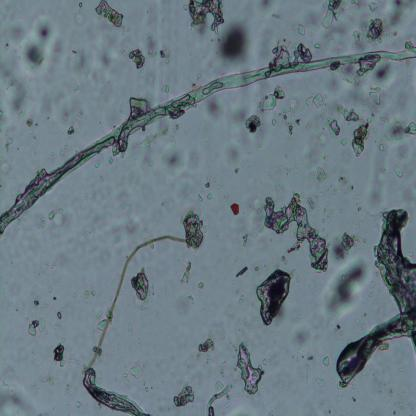Air bubble: (56, 312, 63, 320)
Background material: (261, 194, 330, 276), (324, 254, 374, 316), (252, 270, 293, 327), (20, 16, 53, 70), (32, 197, 72, 236), (0, 374, 36, 416), (236, 343, 264, 396), (183, 0, 225, 33), (214, 23, 248, 62), (377, 381, 413, 416), (6, 73, 31, 120), (285, 323, 312, 366), (155, 144, 188, 178), (204, 382, 235, 415), (319, 0, 354, 29), (180, 211, 207, 248), (57, 92, 86, 126), (130, 270, 154, 310), (145, 33, 171, 69), (303, 135, 329, 170), (328, 232, 356, 261), (95, 2, 124, 29), (258, 84, 286, 111), (109, 218, 140, 242), (278, 100, 298, 137), (70, 50, 96, 78), (267, 45, 312, 61), (363, 16, 387, 44), (172, 383, 197, 408), (368, 60, 393, 84), (352, 126, 369, 156), (244, 111, 263, 136), (336, 171, 355, 195), (139, 131, 163, 150), (42, 368, 61, 390), (194, 337, 216, 356), (175, 293, 194, 315), (99, 44, 115, 68), (386, 121, 405, 141), (26, 317, 46, 336), (119, 31, 134, 55), (71, 1, 85, 25), (128, 50, 146, 68), (129, 361, 146, 380), (278, 164, 299, 179), (369, 84, 382, 108), (306, 93, 324, 109), (341, 109, 361, 123), (292, 20, 307, 38), (359, 110, 376, 125), (181, 262, 191, 286), (2, 135, 15, 153), (234, 265, 249, 280), (313, 374, 327, 390), (314, 165, 326, 183), (330, 117, 340, 137), (375, 113, 389, 127), (0, 160, 12, 176), (404, 121, 416, 137), (120, 372, 131, 388), (203, 176, 215, 190), (25, 118, 37, 132), (220, 357, 227, 380), (242, 233, 254, 246), (354, 318, 368, 329), (394, 165, 404, 179), (305, 198, 316, 210), (72, 78, 82, 91), (334, 324, 344, 336), (392, 0, 404, 10), (128, 320, 136, 335), (368, 2, 379, 12), (107, 154, 116, 166), (353, 30, 362, 42), (254, 138, 262, 151), (30, 299, 43, 307), (0, 112, 7, 125), (275, 186, 284, 196), (160, 85, 170, 94), (196, 193, 204, 204), (377, 142, 385, 153), (259, 356, 267, 366), (94, 156, 100, 168), (322, 358, 330, 367), (70, 126, 76, 138), (197, 282, 205, 290), (340, 138, 348, 146), (83, 290, 91, 298), (206, 193, 213, 202), (270, 118, 277, 127), (307, 353, 314, 362), (195, 74, 201, 84), (237, 297, 245, 304), (325, 406, 332, 414), (234, 165, 240, 174), (71, 290, 77, 298), (52, 261, 58, 269), (76, 402, 82, 409), (335, 396, 342, 402), (357, 202, 361, 212), (144, 385, 149, 393), (398, 367, 405, 372), (136, 336, 140, 344), (369, 292, 375, 297), (352, 396, 357, 402), (351, 384, 356, 390), (321, 218, 325, 225), (92, 289, 96, 296), (52, 297, 58, 301), (48, 286, 52, 292), (45, 265, 48, 271)
Cellulose filter fibre: (0, 42, 416, 237), (89, 233, 187, 368), (374, 206, 416, 356), (338, 306, 416, 385), (82, 366, 150, 416)
Fragment: (228, 200, 242, 218)
